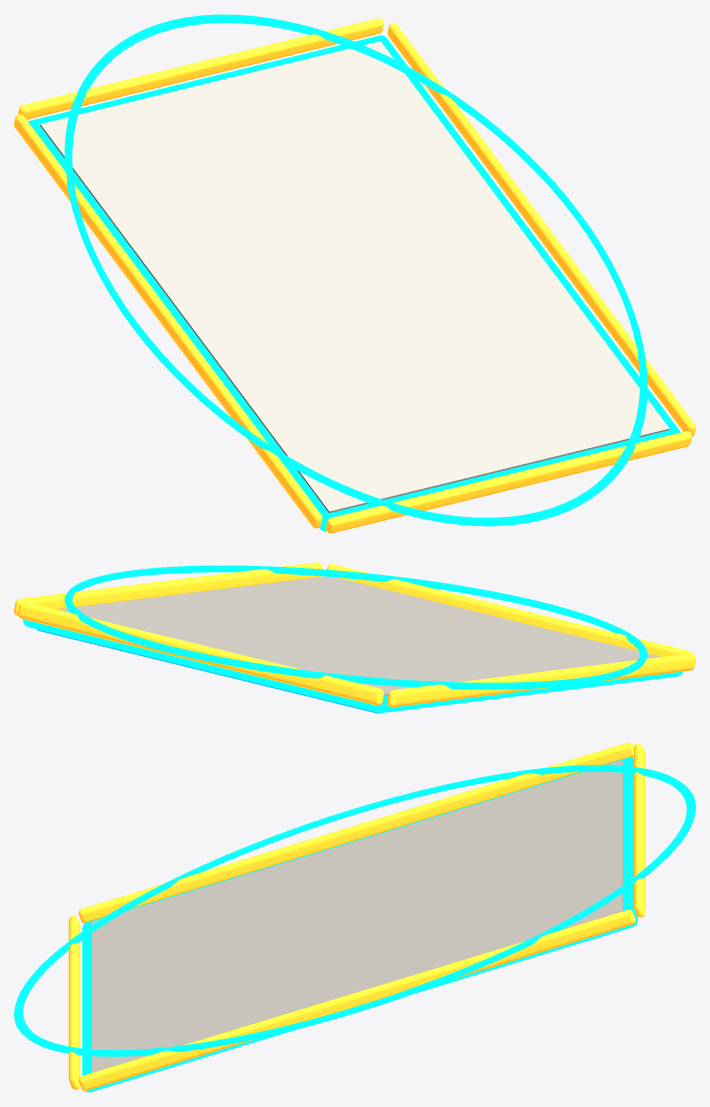
File: purchase-card.glb
3 renders of one model, top to bottom at view 1: azimuth 30°, elevation 25°; view 2: azimuth 150°, elevation 25°; view 3: azimuth 270°, elevation 25°, orthographic. The views are drawn at different scales.
Visible parts, largest first — view 1: CardFront, BuyerColorHalo, CardBody, NeonRimRight, NeonRimLeft, NeonRimTop, NeonRimBottom; view 2: CardFront, BuyerColorHalo, NeonRimTop, NeonRimLeft, NeonRimBottom, NeonRimRight, CardBody, CardBack; view 3: CardFront, BuyerColorHalo, NeonRimLeft, NeonRimRight, CardBody, NeonRimBottom, NeonRimTop.
Part boxes in pixels (bbox=[...]): CardFront: bbox=[40, 41, 669, 513]; BuyerColorHalo: bbox=[64, 14, 647, 526]; CardBody: bbox=[28, 35, 680, 531]; NeonRimRight: bbox=[387, 23, 695, 436]; NeonRimLeft: bbox=[14, 114, 322, 528]; NeonRimTop: bbox=[18, 18, 383, 119]; NeonRimBottom: bbox=[326, 431, 691, 533]; CardFront: bbox=[57, 576, 660, 696]; BuyerColorHalo: bbox=[64, 565, 647, 689]; NeonRimTop: bbox=[18, 602, 383, 705]; NeonRimLeft: bbox=[387, 653, 695, 707]; NeonRimBottom: bbox=[327, 564, 691, 656]; NeonRimRight: bbox=[14, 562, 322, 615]; CardBody: bbox=[23, 619, 682, 712]; CardBack: bbox=[37, 629, 380, 713]; CardFront: bbox=[92, 760, 622, 1072]; BuyerColorHalo: bbox=[14, 765, 695, 1056]; NeonRimLeft: bbox=[78, 742, 633, 923]; NeonRimRight: bbox=[78, 909, 635, 1090]; CardBody: bbox=[82, 757, 637, 1092]; NeonRimBottom: bbox=[68, 915, 80, 1089]; NeonRimTop: bbox=[634, 743, 645, 917].
Bounding box in the file's own units: 2.7 × 1.32 × 3.86.
